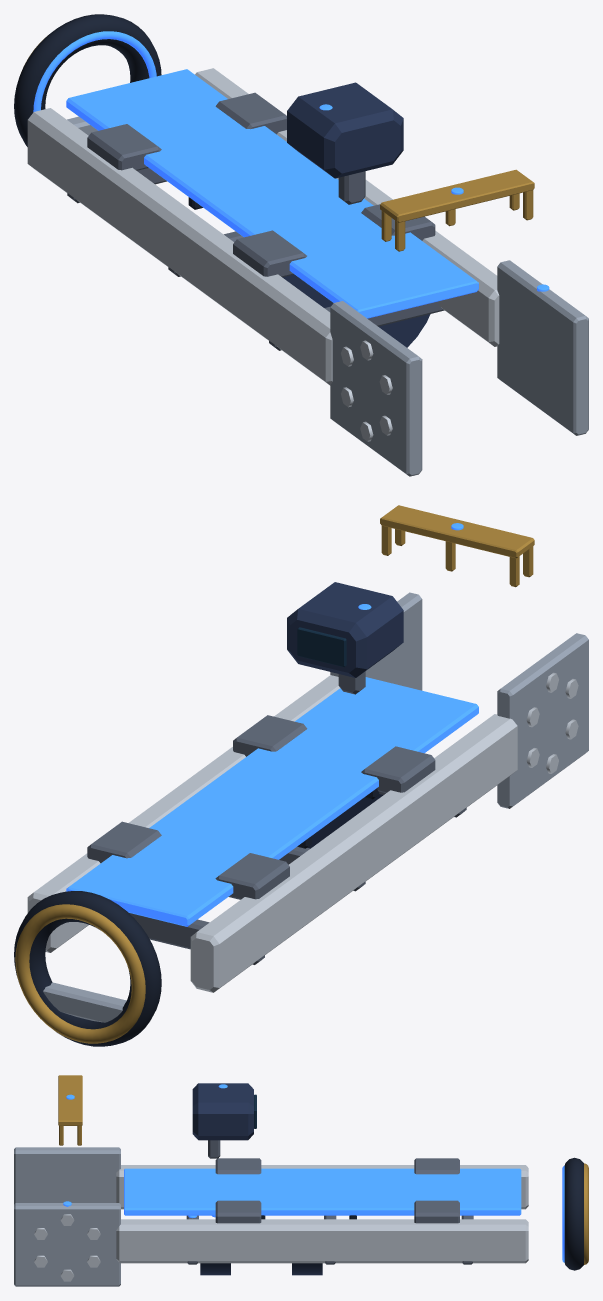
Rendered from tower_lance_damage_s9.glb.
3 renders of one model, top to bottom at view 1: azimuth 30°, elevation 25°; view 2: azimuth 150°, elevation 25°; view 3: azimuth 270°, elevation 25°, orthographic. The views are drawn at different scales.
Parts seen in each view (by area): view 1: lance_accelerator_b, lance_heavy_rail_r, lance_breech_cheek_l, lance_breech_cheek_r, lance_sensor_pod, lance_coil4, lance_heavy_rail_l, lance_terminal_cage_top, lance_heavy_rail_brace2_r, lance_heavy_rail_brace_r, lance_heavy_rail_brace2_l, lance_coil4_glow (+5 smaller); view 2: lance_accelerator_b, lance_heavy_rail_r, lance_breech_cheek_r, lance_sensor_pod, lance_coil4, lance_coil_winding4, lance_heavy_rail_l, lance_terminal_cage_top, lance_breech_cheek_l, lance_heavy_rail_brace2_r, lance_heavy_rail_brace_r, lance_insulator4 (+6 smaller); view 3: lance_heavy_rail_l, lance_accelerator_b, lance_breech_cheek_l, lance_breech_cheek_r, lance_sensor_pod, lance_coil4, lance_heavy_rail_r, lance_terminal_cage_top, lance_heavy_rail_brace_l, lance_heavy_rail_brace2_l, lance_cheek_bolts_r, lance_heavy_rail_brace_r (+5 smaller).
Boxes of the visible parts, box(x1,y1,x2,y2) form: lance_accelerator_b: box(66, 69, 478, 318); lance_heavy_rail_r: box(27, 108, 332, 385); lance_breech_cheek_l: box(497, 260, 588, 435); lance_breech_cheek_r: box(330, 301, 422, 476); lance_sensor_pod: box(287, 82, 403, 178); lance_coil4: box(14, 14, 161, 146); lance_heavy_rail_l: box(195, 68, 499, 346); lance_terminal_cage_top: box(380, 169, 534, 222); lance_heavy_rail_brace2_r: box(87, 124, 161, 170); lance_heavy_rail_brace_r: box(233, 230, 306, 277); lance_heavy_rail_brace2_l: box(215, 92, 286, 134); lance_coil4_glow: box(33, 31, 156, 111); lance_accelerator_b: box(66, 677, 478, 926); lance_heavy_rail_r: box(190, 714, 517, 992); lance_breech_cheek_r: box(497, 633, 588, 808); lance_sensor_pod: box(287, 582, 403, 677); lance_coil4: box(14, 891, 161, 1046); lance_coil_winding4: box(15, 904, 145, 1043); lance_heavy_rail_l: box(27, 675, 339, 952); lance_terminal_cage_top: box(380, 505, 534, 558); lance_breech_cheek_l: box(330, 592, 422, 690); lance_heavy_rail_brace2_r: box(215, 853, 289, 899); lance_heavy_rail_brace_r: box(361, 746, 435, 793); lance_insulator4: box(43, 982, 126, 1022); lance_heavy_rail_l: box(116, 1219, 528, 1263); lance_accelerator_b: box(124, 1168, 521, 1215); lance_breech_cheek_l: box(14, 1203, 120, 1286); lance_breech_cheek_r: box(14, 1147, 120, 1204); lance_sensor_pod: box(192, 1083, 253, 1140); lance_coil4: box(564, 1157, 583, 1270); lance_heavy_rail_r: box(116, 1165, 528, 1209); lance_terminal_cage_top: box(58, 1075, 82, 1125); lance_heavy_rail_brace_l: box(215, 1200, 261, 1223); lance_heavy_rail_brace2_l: box(414, 1200, 459, 1223); lance_cheek_bolts_r: box(34, 1214, 100, 1281); lance_heavy_rail_brace_r: box(215, 1158, 261, 1174).
Bounding box in the file's own units: 0.9896 × 1.28 × 3.76.
